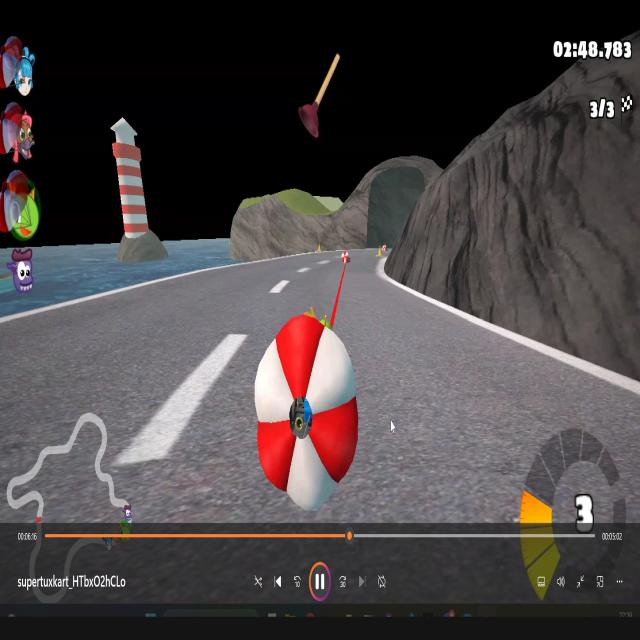track: (258, 368, 613, 533), (0, 324, 254, 516), (257, 321, 511, 364), (186, 272, 394, 322), (120, 288, 186, 324), (392, 284, 448, 322), (317, 260, 384, 280), (249, 255, 313, 274), (81, 298, 120, 322), (329, 246, 371, 261), (47, 310, 81, 320), (341, 317, 343, 320)
